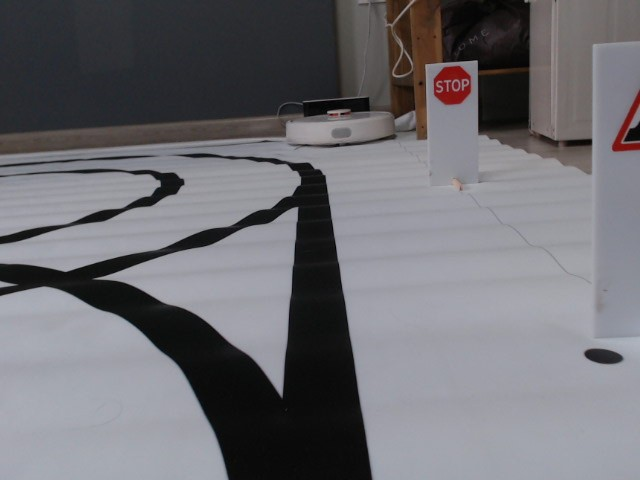Stop: (432, 66, 474, 108)
